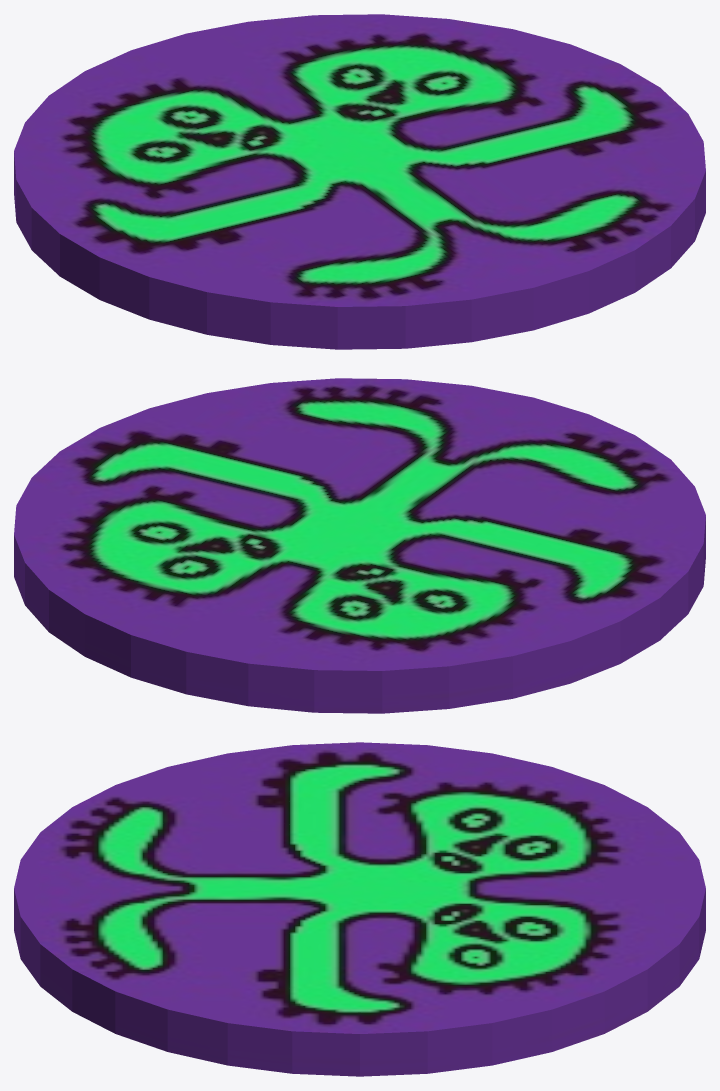
The model's file is tribal.fbx.
3 views of the same model, one above another, from view 1: azimuth 30°, elevation 25°; view 2: azimuth 150°, elevation 25°; view 3: azimuth 270°, elevation 25° (orthographic).
Visible parts, largest first — view 1: yingyang.001; view 2: yingyang.001; view 3: yingyang.001.
Boxes of the visible parts, x1,y1,x2,y2 form: yingyang.001: (14,14,705,349); yingyang.001: (14,378,705,713); yingyang.001: (14,742,705,1076).
Size of the model in its own units: 93.2 by 6.33 by 93.4.
